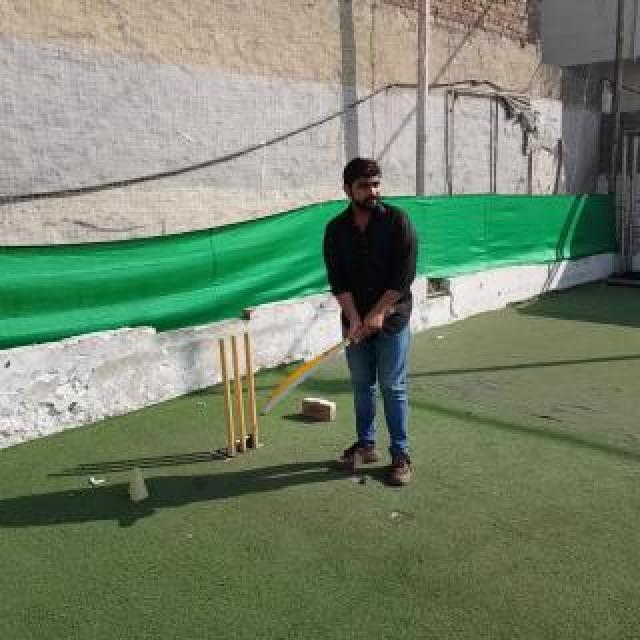bat: (259, 305, 395, 417)
